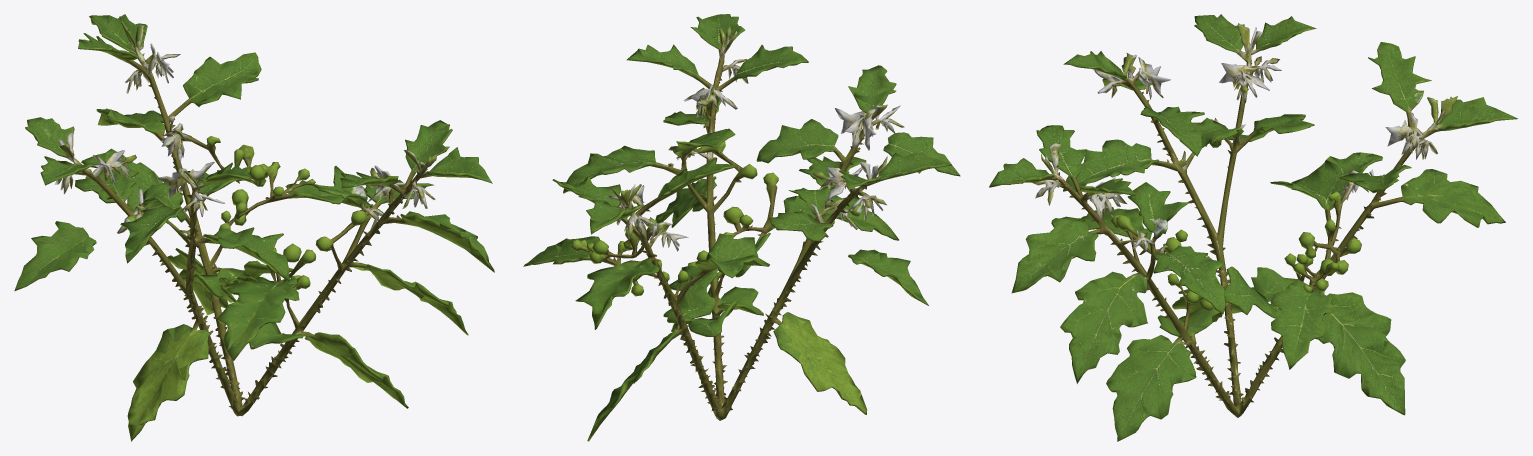
The model's file is planta_tipo_1.fbx.
3 renders of one model, left to right at view 1: azimuth 30°, elevation 25°; view 2: azimuth 150°, elevation 25°; view 3: azimuth 270°, elevation 25°, orthographic. The views are drawn at different scales.
Visible parts, largest first — view 1: tripo_node_d07d5eed; view 2: tripo_node_d07d5eed; view 3: tripo_node_d07d5eed.
Part boxes in pixels (x1,y1,x2,y2): tripo_node_d07d5eed: (14, 14, 494, 441); tripo_node_d07d5eed: (523, 14, 960, 441); tripo_node_d07d5eed: (989, 14, 1517, 441).
Bounding box in the file's own units: 11.87 × 9.66 × 13.88.
Materials: 1 (1 with a texture image).
